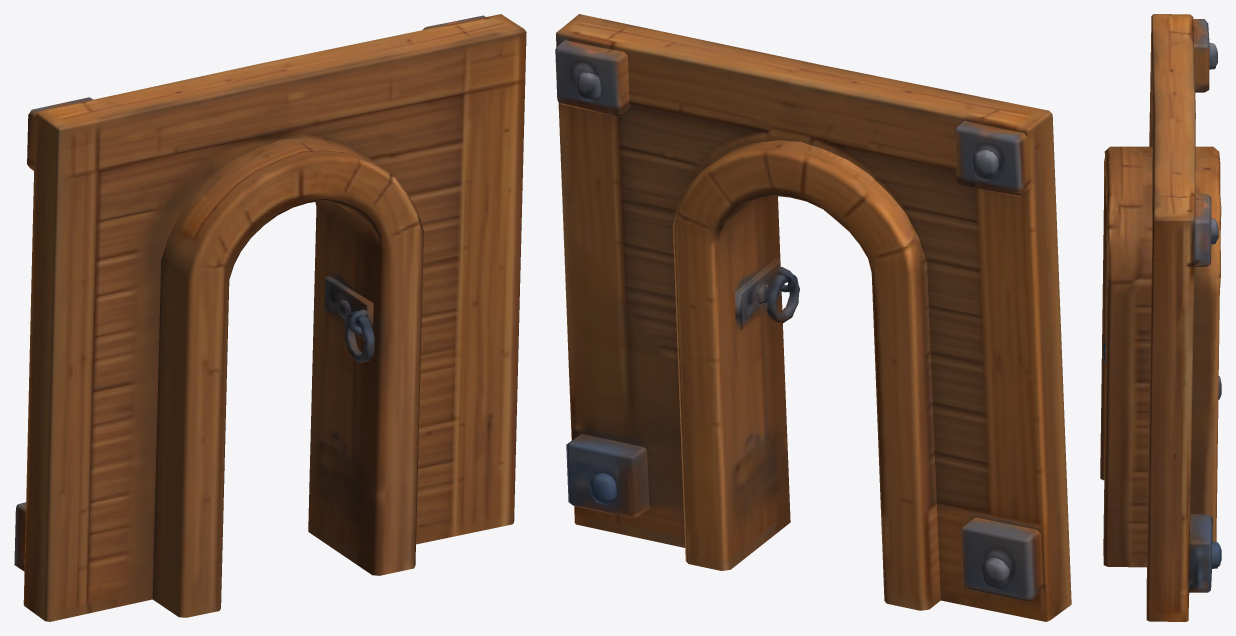
Rendered from cabin_door_wall.glb.
The picture shows the model from 3 angles, left to right: view 1: azimuth 30°, elevation 25°; view 2: azimuth 150°, elevation 25°; view 3: azimuth 270°, elevation 25°; orthographic projection. The views are drawn at different scales.
Parts seen in each view (by area): view 1: wall; view 2: wall; view 3: wall.
Part boxes in pixels (box(x1,y1,x2,y2)): wall: box(14, 14, 526, 621); wall: box(555, 14, 1071, 621); wall: box(1100, 14, 1221, 621).
Bounding box in the file's own units: 2.44 × 2.42 × 0.6298.
Materials: 1 (1 with a texture image).
